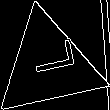L_W: (21, 45, 76, 86)
